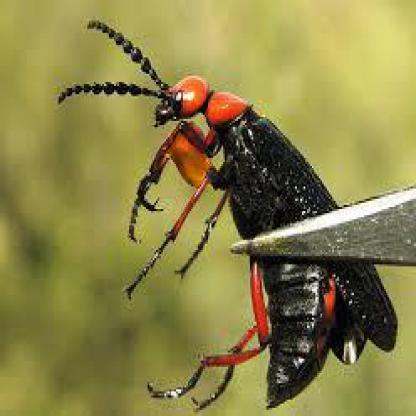blister beetle: (64, 17, 403, 410)
